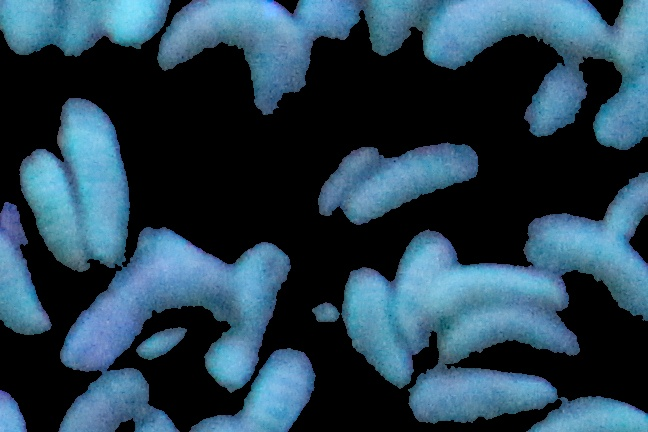larvae: (48, 83, 146, 272), (157, 1, 311, 110), (423, 1, 617, 81), (344, 130, 491, 233), (207, 240, 307, 382), (528, 210, 648, 316), (13, 140, 100, 280), (329, 263, 414, 386), (57, 281, 158, 367), (428, 260, 570, 316), (412, 369, 554, 422), (388, 230, 449, 353), (438, 315, 584, 365), (47, 369, 154, 432), (1, 228, 54, 346), (250, 342, 317, 432), (317, 144, 378, 215), (595, 163, 648, 242)
